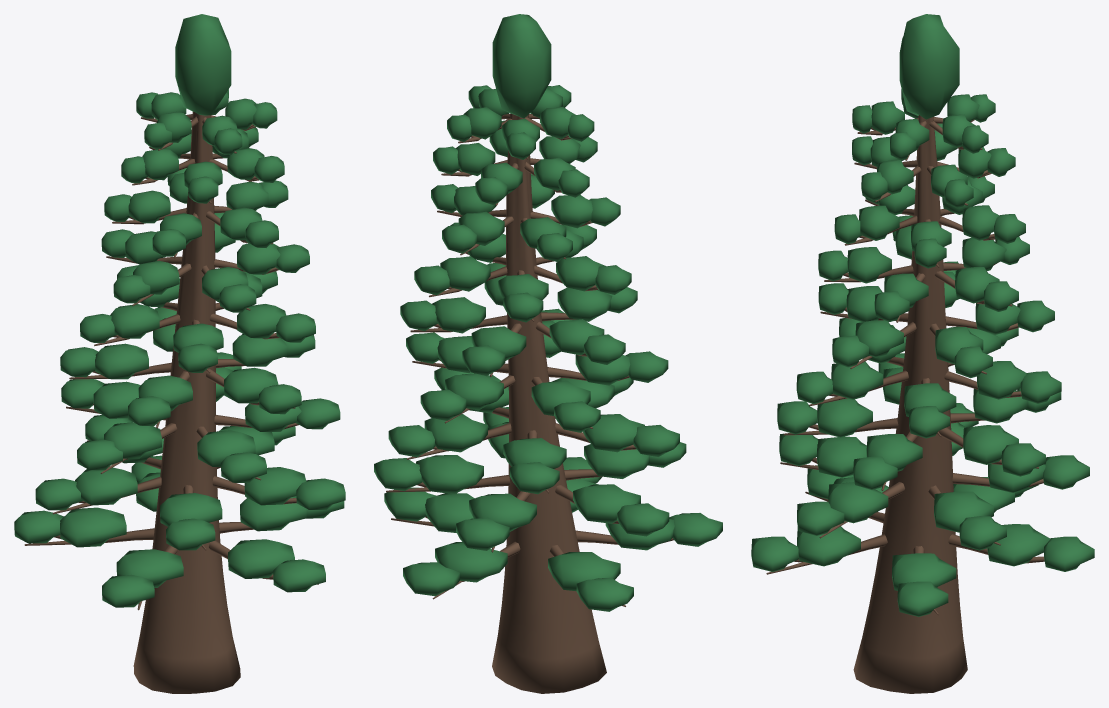
The model's file is canopy_alpine_pine.glb.
3 views of the same model, side by side, from view 1: azimuth 30°, elevation 25°; view 2: azimuth 150°, elevation 25°; view 3: azimuth 270°, elevation 25° (orthographic). The views are drawn at different scales.
Visible parts, largest first — view 1: Flora_Alpine_Pine; view 2: Flora_Alpine_Pine; view 3: Flora_Alpine_Pine.
Boxes of the visible parts, left/top/right/bottom form: Flora_Alpine_Pine: left=14, top=14, right=345, bottom=693; Flora_Alpine_Pine: left=374, top=14, right=722, bottom=693; Flora_Alpine_Pine: left=751, top=14, right=1094, bottom=693.
Bounding box in the file's own units: 7.15 × 15.2 × 7.08.
